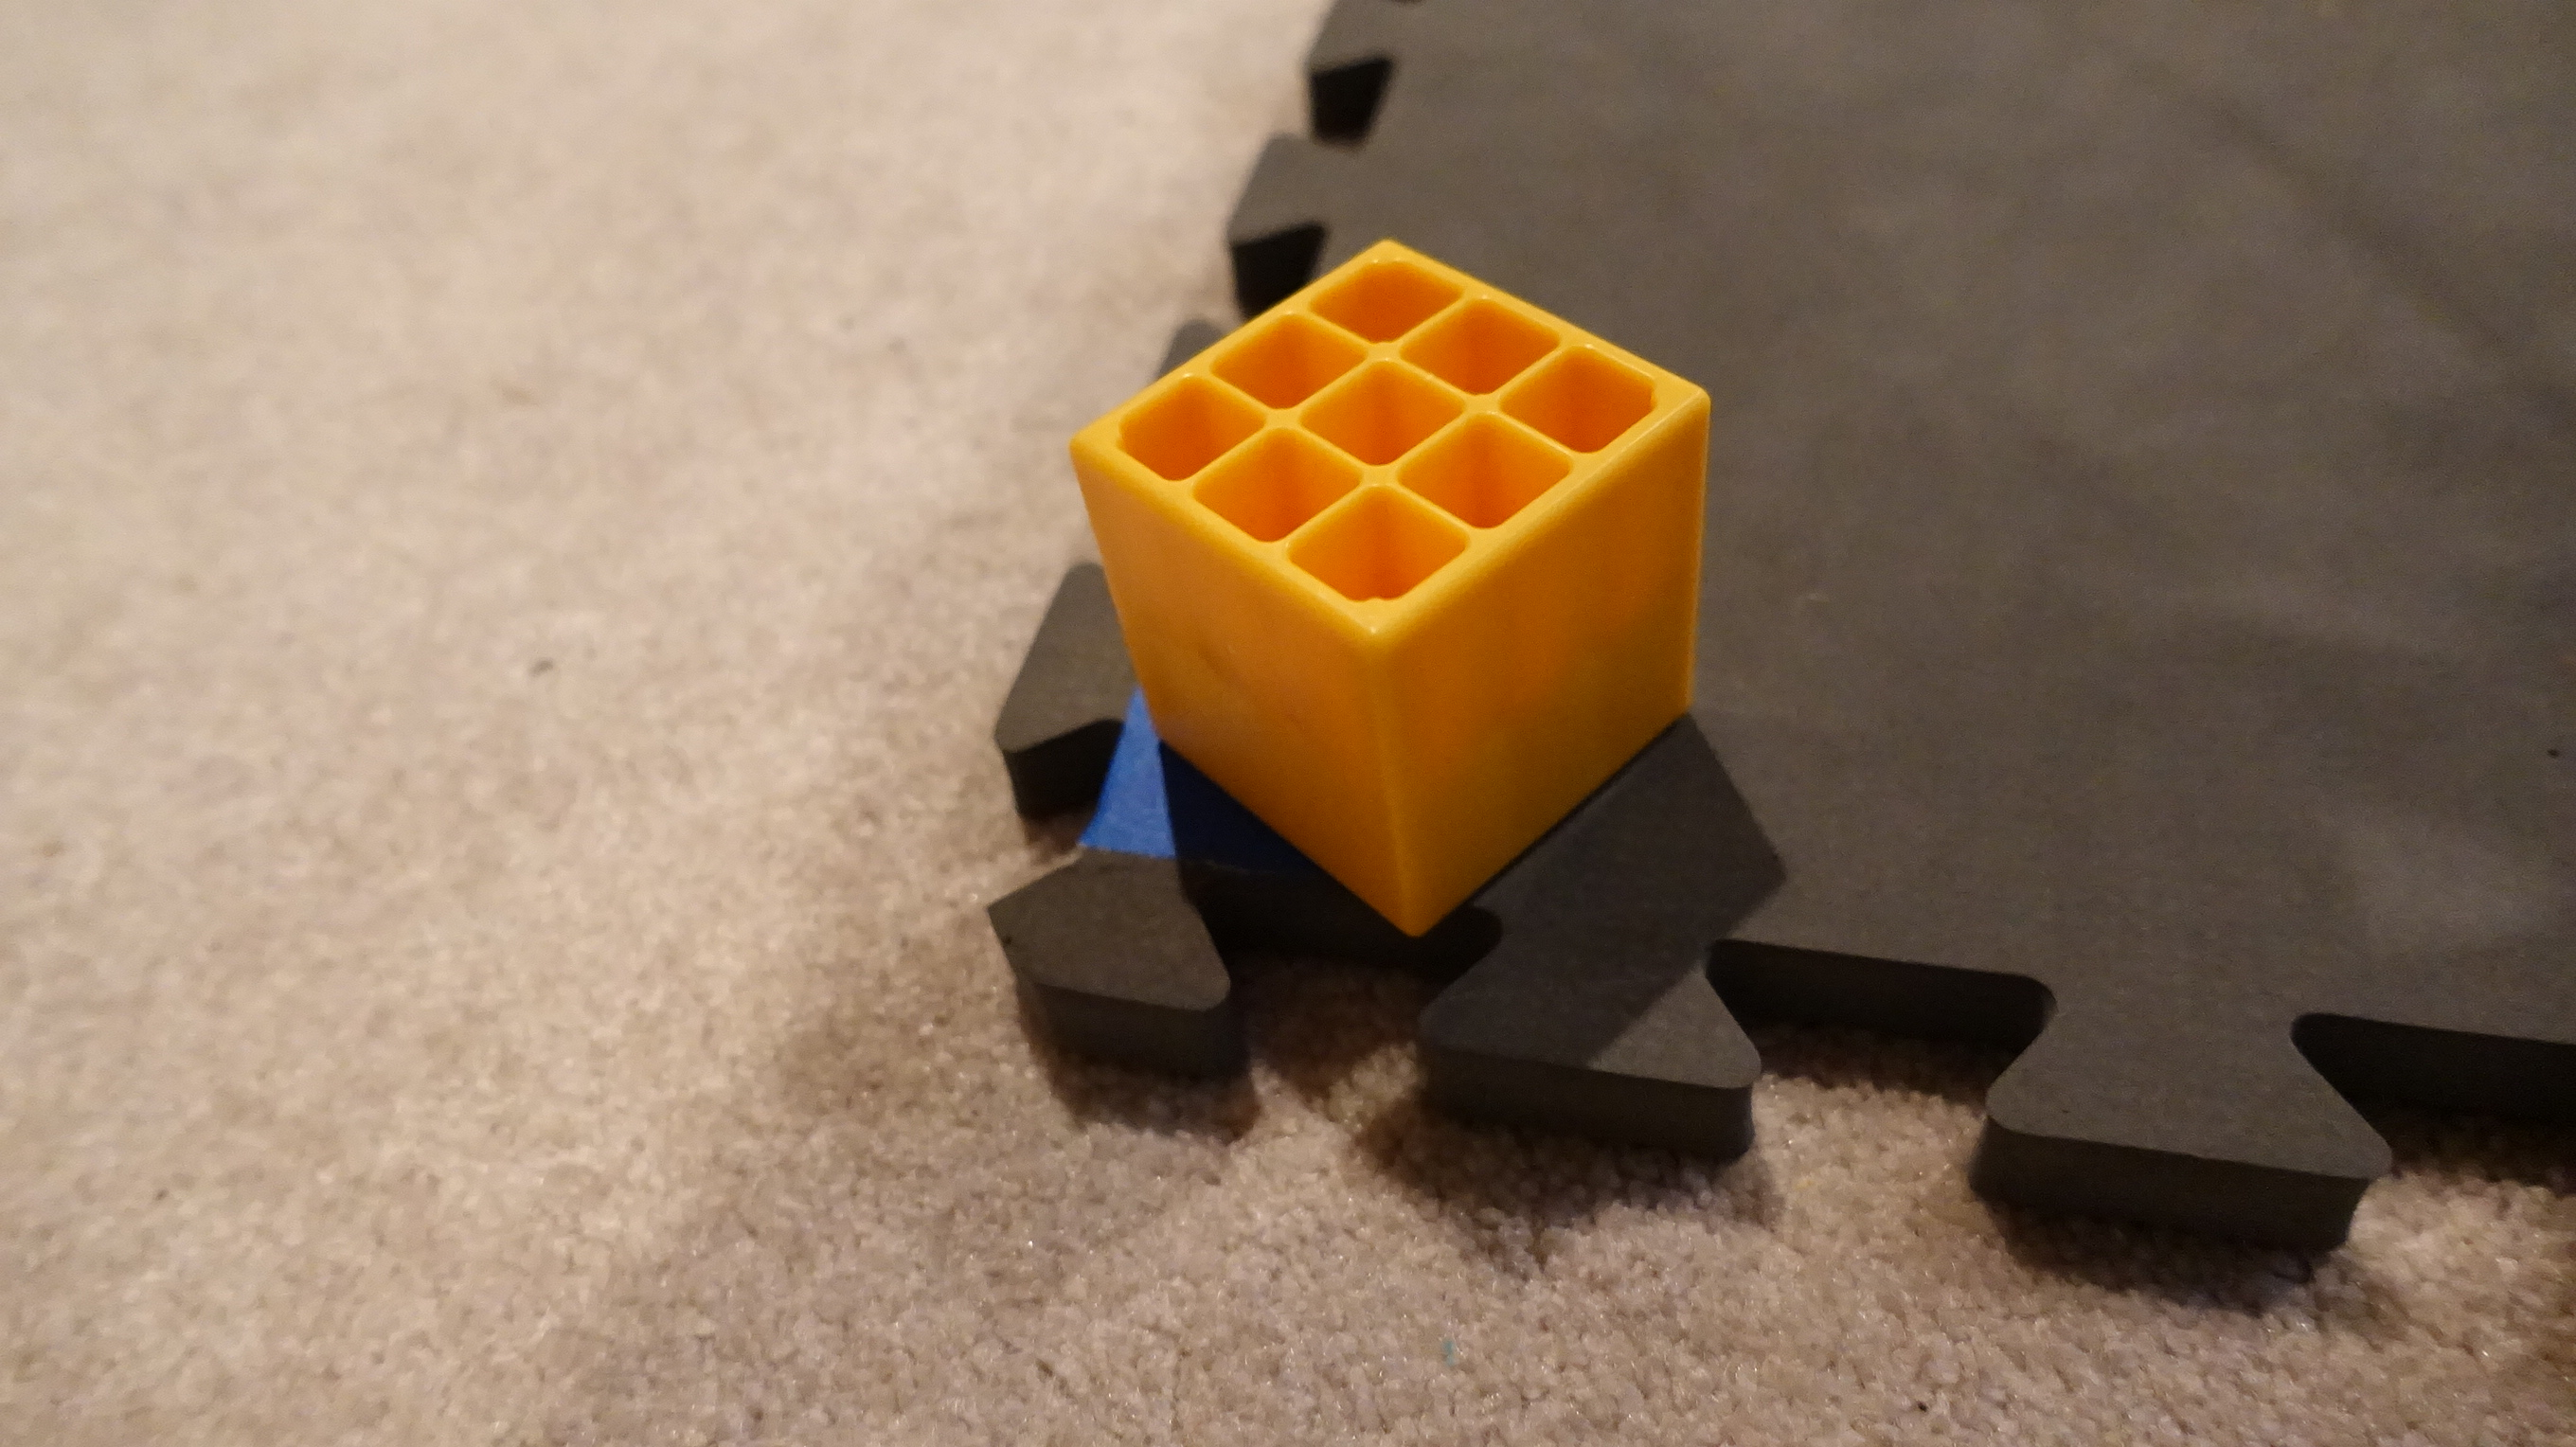gold: (1058, 234, 1725, 939)
